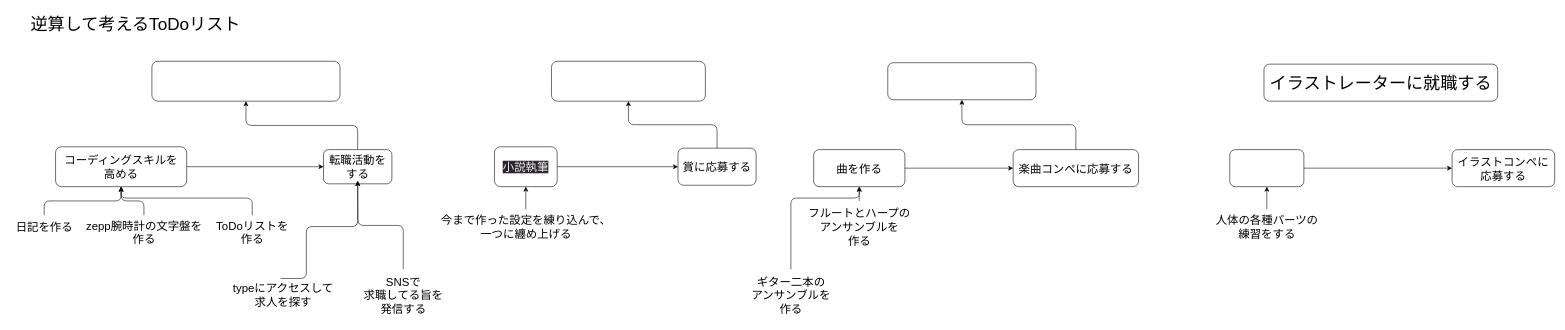
Image size: 1565x330. Some labels were removed from this diagram. Each missing label, with the centre of its shape:
"プログラマに就職する" belongs at pixel 245 81.
"作曲家に就職する" belongs at pixel 961 81.
"小説家に就職する" belongs at pixel 628 81.
"絵を描く" belongs at pixel 1266 168.
